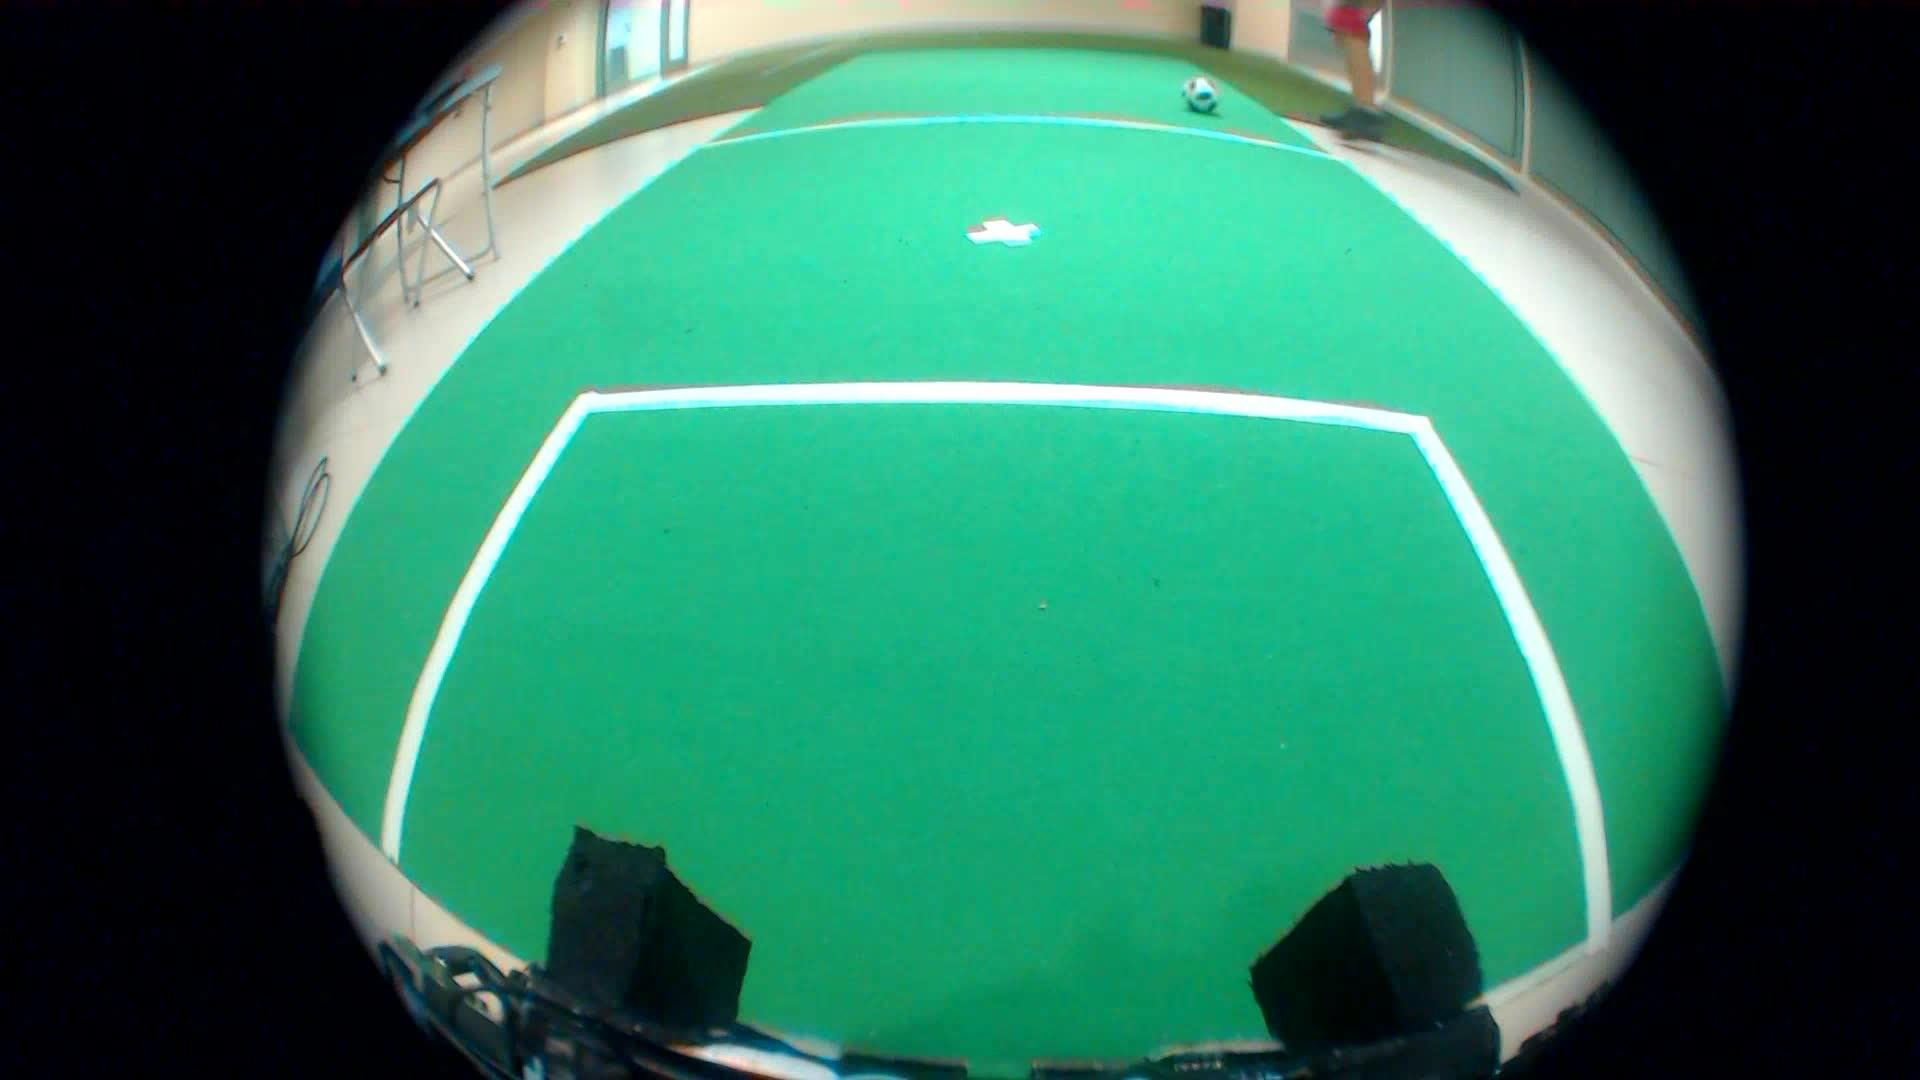ball: (1171, 65, 1232, 129)
